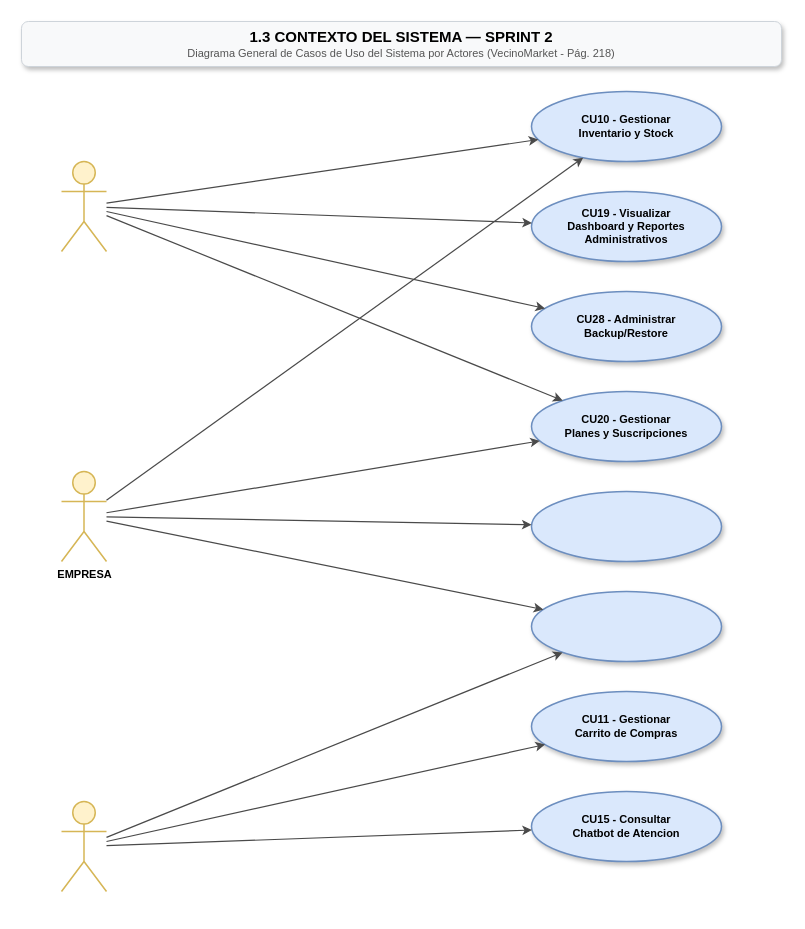
Some shapes in this 805 by 929 pixel diagram are drawn without their labels. Each missing label, with the centre of its shape:
ADMINISTRADOR: the point at 83,206
COMPRADOR: the point at 83,846
CU14 - Gestionar Chat Interno entre Comprador y Empresa: the point at 627,627
CU18 - Visualizar Dashboard y Reportes de Empresa: the point at 627,527
